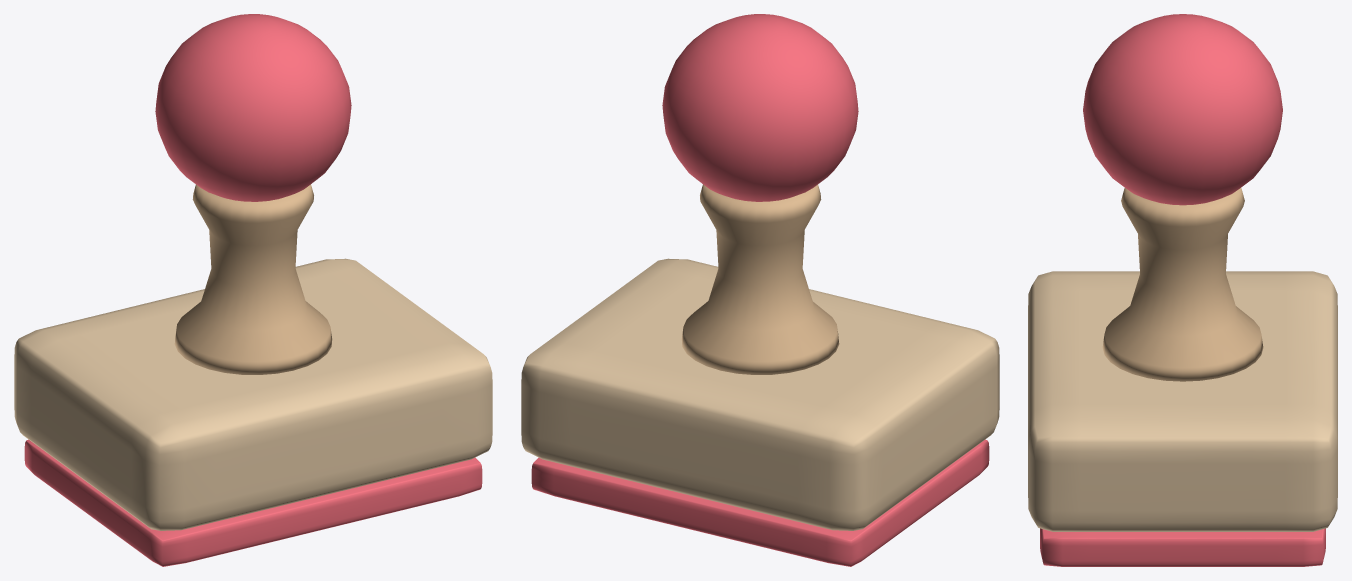
The model's file is StampOutBigStamp.glb.
3 views of the same model, side by side, from view 1: azimuth 30°, elevation 25°; view 2: azimuth 150°, elevation 25°; view 3: azimuth 270°, elevation 25° (orthographic).
Visible parts, largest first — view 1: Block, Knob, Handle, Rubber; view 2: Block, Knob, Handle, Rubber; view 3: Block, Knob, Handle, Rubber.
Boxes of the visible parts, bbox=[...] form: Block: bbox=[14, 258, 492, 530]; Knob: bbox=[155, 14, 351, 201]; Handle: bbox=[174, 184, 332, 374]; Rubber: bbox=[24, 439, 482, 566]; Block: bbox=[521, 258, 999, 530]; Knob: bbox=[662, 14, 858, 201]; Handle: bbox=[681, 184, 839, 374]; Rubber: bbox=[531, 439, 989, 566]; Block: bbox=[1028, 271, 1337, 531]; Knob: bbox=[1083, 14, 1282, 205]; Handle: bbox=[1102, 188, 1263, 381]; Rubber: bbox=[1040, 528, 1325, 566].
Size of the model in its own units: 17 by 21.6 by 13.
